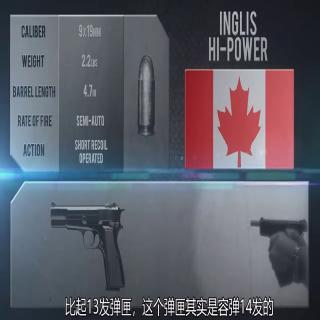gun: (43, 195, 131, 290), (247, 206, 307, 277)
